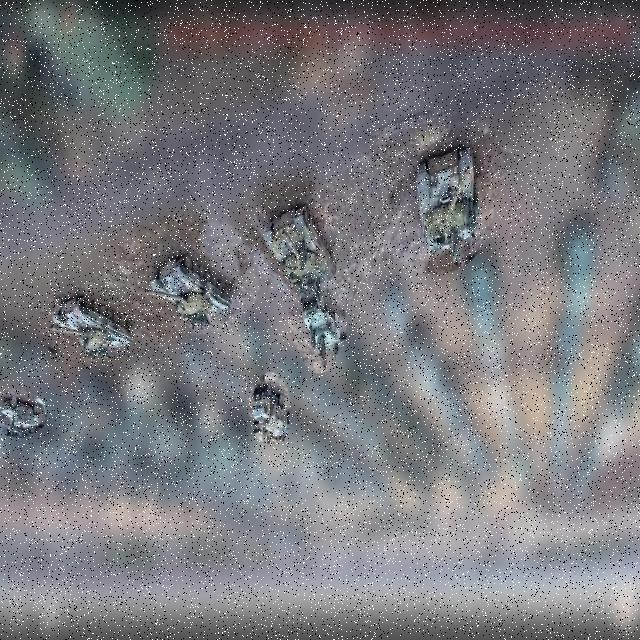MIL_MBT: (414, 141, 479, 261), (144, 251, 234, 331), (48, 289, 136, 361), (266, 201, 337, 290)
